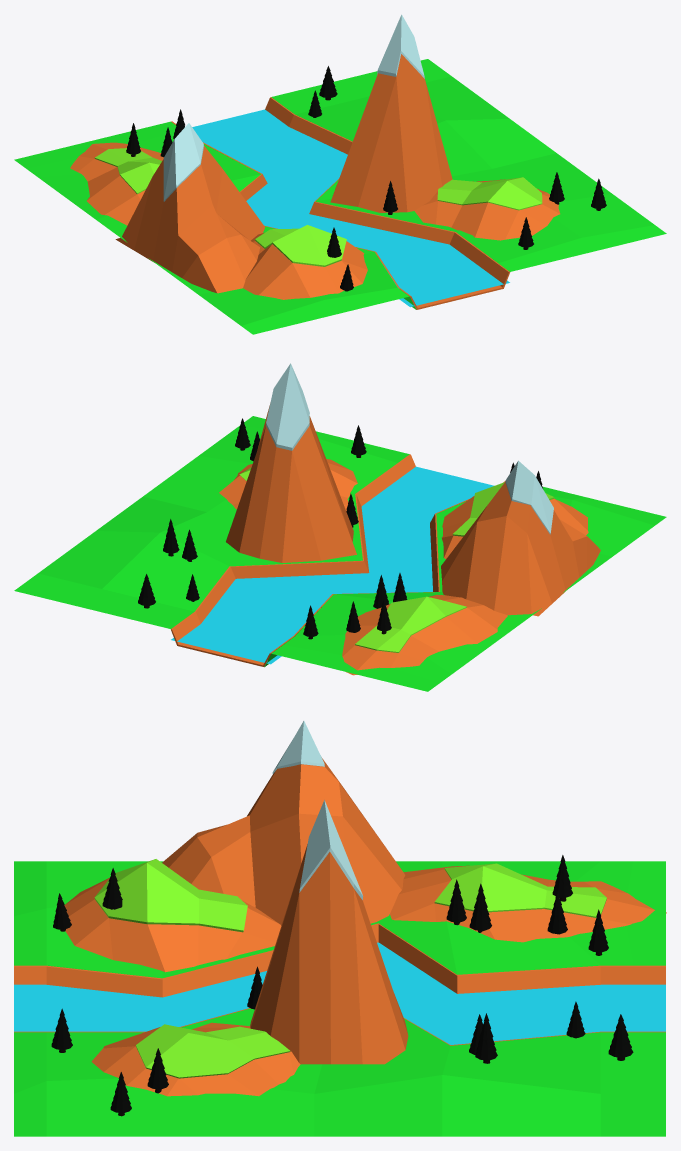
Rendered from Environment_game_Section_05.FBX.
3 views of the same model, one above another, from view 1: azimuth 30°, elevation 25°; view 2: azimuth 150°, elevation 25°; view 3: azimuth 270°, elevation 25° (orthographic). The views are drawn at different scales.
Visible parts, largest first — view 1: ground, water, Plane004, Plane003, Ground water, Plane006, Plane015, Plane002, Plane010, Plane005, Plane008, Plane007 (+1 smaller); view 2: ground, water, Plane004, Plane003, Ground water, Plane002, Plane007, Plane009, Plane006, Plane008, Plane015, Plane005; view 3: ground, water, Plane003, Plane004, Ground water, Plane006, Plane002, Plane005, Plane015, Plane010, Plane007, Plane009 (+4 smaller).
Boxes of the visible parts, left/top/right/bottom form: ground: left=14, top=59, right=666, bottom=334; water: left=192, top=109, right=509, bottom=307; Plane004: left=115, top=146, right=264, bottom=293; Plane003: left=330, top=54, right=452, bottom=212; Ground water: left=171, top=97, right=510, bottom=309; Plane006: left=243, top=232, right=367, bottom=299; Plane015: left=414, top=179, right=560, bottom=240; Plane002: left=70, top=142, right=163, bottom=225; Plane010: left=437, top=177, right=542, bottom=210; Plane005: left=255, top=225, right=346, bottom=266; Plane008: left=163, top=123, right=203, bottom=201; Plane007: left=94, top=148, right=161, bottom=194; ground: left=14, top=416, right=666, bottom=691; water: left=171, top=466, right=494, bottom=664; Plane004: left=441, top=482, right=600, bottom=616; Plane003: left=226, top=405, right=356, bottom=562; Ground water: left=171, top=454, right=505, bottom=666; Plane002: left=342, top=594, right=507, bottom=675; Plane007: left=355, top=596, right=466, bottom=652; Plane009: left=266, top=363, right=309, bottom=450; Plane006: left=442, top=496, right=588, bottom=558; Plane008: left=505, top=460, right=553, bottom=534; Plane015: left=219, top=459, right=357, bottom=510; Plane005: left=452, top=482, right=554, bottom=536; ground: left=14, top=861, right=665, bottom=1136; water: left=14, top=942, right=665, bottom=1044; Plane003: left=250, top=844, right=408, bottom=1064; Plane004: left=162, top=758, right=405, bottom=925; Ground water: left=14, top=923, right=665, bottom=1045; Plane006: left=64, top=877, right=281, bottom=972; Plane002: left=390, top=865, right=666, bottom=942; Plane005: left=94, top=859, right=247, bottom=932; Plane015: left=91, top=1022, right=300, bottom=1096; Plane010: left=136, top=1024, right=290, bottom=1078; Plane007: left=434, top=863, right=606, bottom=917; Plane009: left=299, top=800, right=363, bottom=899.
Size of the model in its own units: 50.57 by 21.75 by 50.08.
